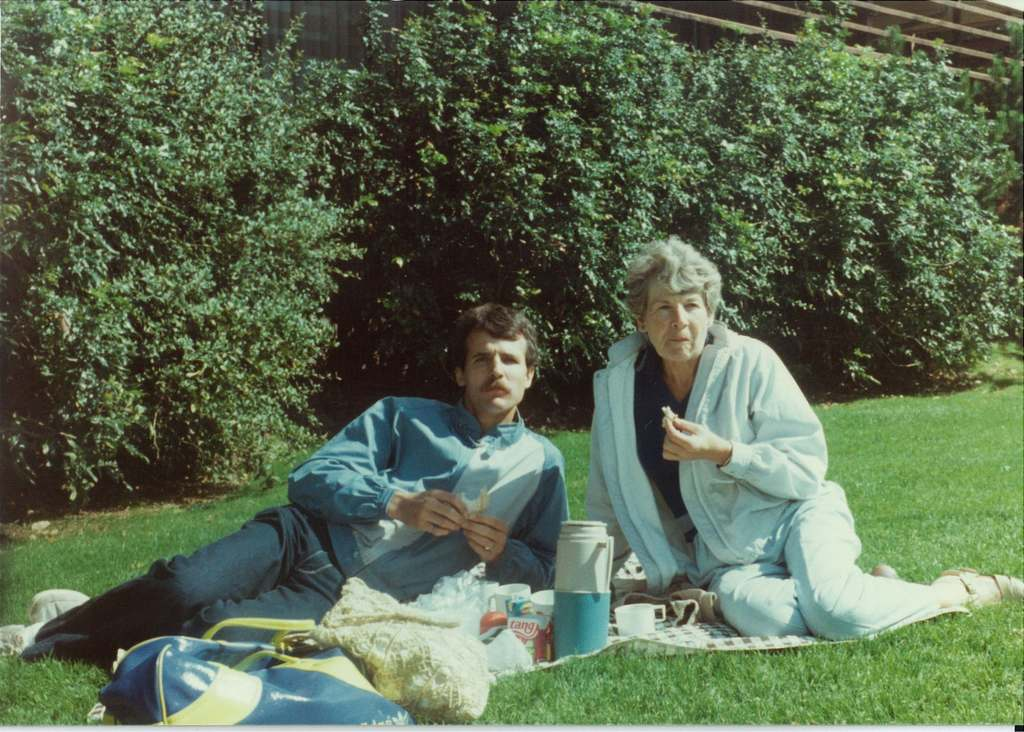Footwear: (33, 587, 97, 623), (0, 621, 44, 658)
